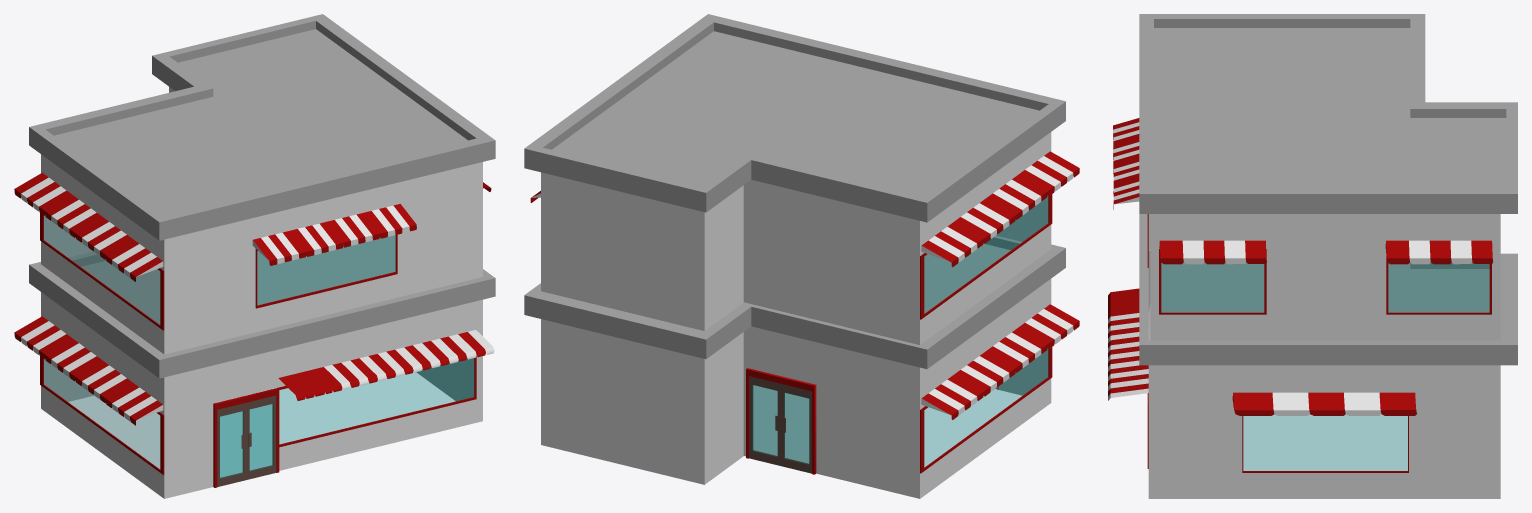
Rendered from Building_CafeTwoStory_Mod_02.fbx.
The picture shows the model from 3 angles, left to right: view 1: azimuth 30°, elevation 25°; view 2: azimuth 150°, elevation 25°; view 3: azimuth 270°, elevation 25°; orthographic projection. The views are drawn at different scales.
Visible parts, largest first — view 1: Building23, Building22, Shade8, Shade16, Shade9, Shade14, Door22, Door23; view 2: Building23, Building22, Shade9, Shade16, Door25, Door24; view 3: Building23, Building22, Shade10, Shade8, Shade12, Shade13, Shade14.
Part boxes in pixels (x1=…): Building23: x1=29, y1=14, x2=495, y2=354; Building22: x1=29, y1=234, x2=495, y2=498; Shade8: x1=278, y1=330, x2=494, y2=400; Shade16: x1=14, y1=172, x2=163, y2=281; Shade9: x1=14, y1=316, x2=163, y2=425; Shade14: x1=252, y1=204, x2=416, y2=265; Door22: x1=246, y1=395, x2=276, y2=479; Door23: x1=217, y1=402, x2=246, y2=486; Building23: x1=524, y1=14, x2=1065, y2=344; Building22: x1=524, y1=235, x2=1065, y2=498; Shade9: x1=921, y1=304, x2=1079, y2=419; Shade16: x1=921, y1=151, x2=1079, y2=267; Door25: x1=749, y1=376, x2=780, y2=465; Door24: x1=780, y1=384, x2=811, y2=473; Building23: x1=1139, y1=14, x2=1517, y2=340; Building22: x1=1139, y1=214, x2=1517, y2=498; Shade10: x1=1232, y1=392, x2=1416, y2=415; Shade8: x1=1108, y1=288, x2=1148, y2=400; Shade12: x1=1159, y1=240, x2=1266, y2=264; Shade13: x1=1385, y1=240, x2=1492, y2=264; Shade14: x1=1113, y1=118, x2=1139, y2=209.
Size of the model in its own units: 10.37 by 7.76 by 9.31.
